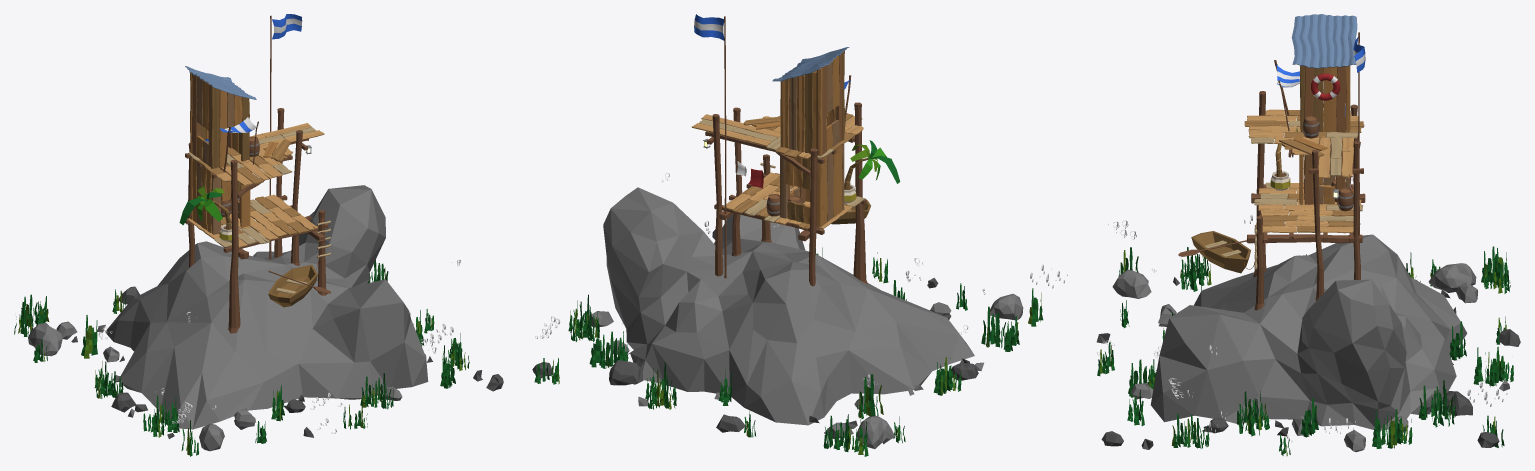
The picture shows the model from 3 angles, left to right: view 1: azimuth 30°, elevation 25°; view 2: azimuth 150°, elevation 25°; view 3: azimuth 270°, elevation 25°; orthographic projection. The views are drawn at different scales.
Parts seen in each view (by area): view 1: Main Rock_63, Walls_68, Seaweed.296_0, Support Beams_66, Wood Plank Floors_71, Rock Support Light_64, Rock Support Dark_62, TILES.052_70, TILES.041_69, Seaweed.292_65, Boat_26, Roof_67 (+1 smaller); view 2: Main Rock_63, Walls_68, Seaweed.296_0, Support Beams_66, Rock Support Light_64, Wood Plank Floors_71, Rock Support Dark_62, Seaweed.292_65, TILES.041_69, TILES.052_70, Roof_67, FLAG_36 (+1 smaller); view 3: Main Rock_63, Seaweed.296_0, Support Beams_66, Walls_68, Wood Plank Floors_71, Rock Support Light_64, Roof_67, Rock Support Dark_62, TILES.052_70, TILES.041_69, Boat_26, Seaweed.292_65 (+1 smaller).
Part boxes in pixels (x1,y1,x2,y2): Main Rock_63: (105, 185, 428, 429); Walls_68: (190, 73, 250, 234); Seaweed.296_0: (14, 260, 469, 456); Support Beams_66: (185, 108, 328, 333); Wood Plank Floors_71: (187, 123, 324, 247); Rock Support Light_64: (28, 321, 402, 451); Rock Support Dark_62: (71, 286, 503, 438); TILES.052_70: (197, 139, 309, 235); TILES.041_69: (188, 127, 316, 247); Seaweed.292_65: (18, 265, 465, 455); Boat_26: (268, 264, 317, 307); Roof_67: (185, 66, 256, 99); Main Rock_63: (603, 187, 974, 425); Walls_68: (780, 50, 844, 226); Seaweed.296_0: (534, 247, 1043, 456); Support Beams_66: (705, 102, 867, 286); Rock Support Light_64: (589, 293, 1023, 448); Wood Plank Floors_71: (691, 113, 863, 229); Rock Support Dark_62: (532, 229, 1014, 432); Seaweed.292_65: (552, 252, 1041, 454); TILES.041_69: (699, 119, 864, 222); TILES.052_70: (733, 113, 854, 229); Roof_67: (772, 47, 849, 81); FLAG_36: (694, 14, 724, 40); Main Rock_63: (1150, 234, 1467, 430); Seaweed.296_0: (1097, 246, 1513, 455); Support Beams_66: (1246, 91, 1365, 310); Walls_68: (1299, 65, 1353, 204); Wood Plank Floors_71: (1247, 109, 1361, 233); Rock Support Light_64: (1112, 263, 1509, 452); Roof_67: (1291, 14, 1357, 68); Rock Support Dark_62: (1096, 277, 1520, 449); TILES.052_70: (1244, 110, 1364, 232); TILES.041_69: (1251, 111, 1363, 221); Boat_26: (1191, 231, 1250, 273); Seaweed.292_65: (1100, 250, 1506, 456).
Size of the model in its own units: 1.94 by 1.78 by 1.91.
